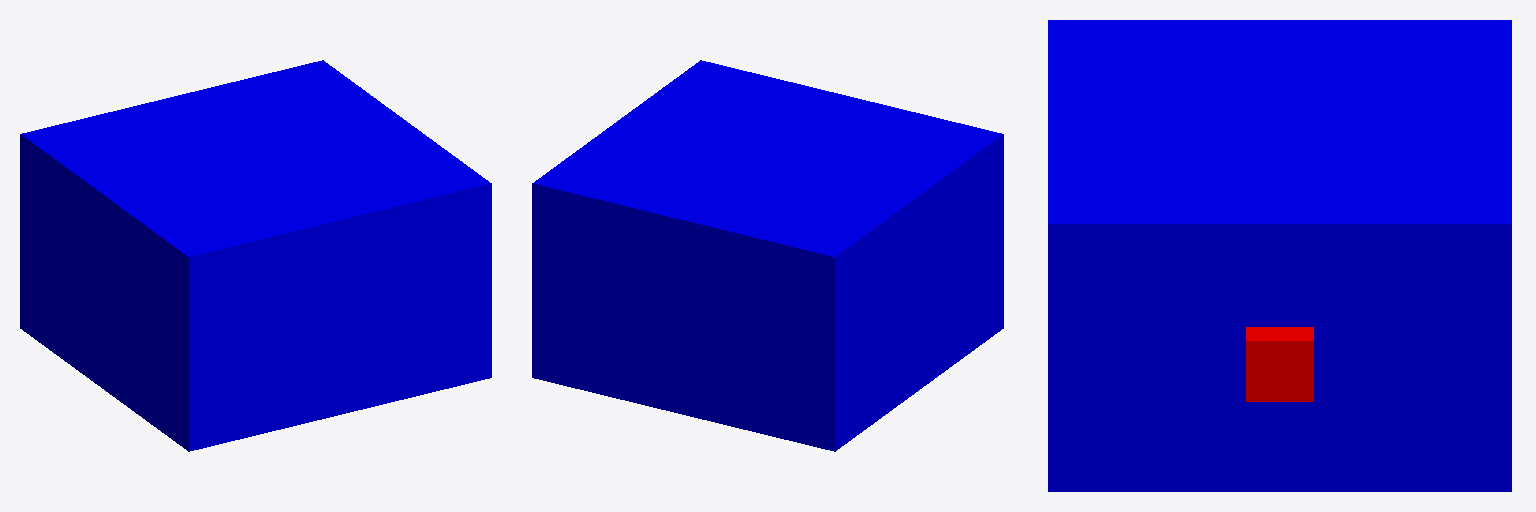
The robot description file, URDF, robot "high_level_robosub":
<?xml version="1.0"?>
<robot name="high_level_robosub">

	<!-- Block -->
	<link name="base_link">
		<inertial>
			<mass value="200.0"/>
			<origin xyz="0 0 0"/>
			<inertia
				ixx="5.5808" ixy="0.0" ixz="0.0"
				iyy="5.8858" iyz="0.0"
				izz="8.2400"/>
		</inertial>
		<visual>
			<geometry>
				<box size="0.716 0.690 0.440"/>
			</geometry>
			<material name="blue">
				<color rgba="0 0 1 1"/>
			</material>
		</visual>
		<collision>
			<geometry>
				<box size="0.716 0.690 0.440"/>
			</geometry>
		</collision>
	</link>

	<!-- Camera -->
	<link name="camera_link">
		<inertial>
			<mass value="1.0" rpy="0 0 0"/>
			<origin xyz="0.5 0 0"/>
			<inertia
				ixx="0.01" ixy="0.0" ixz="0.0"
				iyy="0.01" iyz="0.0"
				izz="0.01"/>
		</inertial>
		<visual>
			<geometry>
				<box size="0.1 0.1 0.1"/>
			</geometry>
			<material name="red">
				<color rgba="1 0 0 1"/>
			</material>
		</visual>
	</link>
	<joint name="camera_joint" type="fixed">
		<origin xyz="0.358 0 0" rpy="3.1416 3.1416 3.1416"/>
		<parent link="base_link"/>
		<child link="camera_link"/>
    </joint>


	<gazebo reference="camera_link">
		<sensor name="underwater_camera" type="rgbd_camera">
			<update_rate>10</update_rate>
			<visualize>true</visualize>
			<always_on>1</always_on>
			<topic>/robosub/camera</topic>
			<camera>
				<horizontal_fov>1.05</horizontal_fov>
				<image>
				<width>320</width>
				<height>240</height>
				</image>
				<clip>
				<near>0.1</near>
				<far>10.0</far>
				</clip>
			</camera>
			<plugin
				filename="libUnderwaterCamera.so"
				name="dave_gz_sensor_plugins::UnderwaterCamera">
				<attenuationR>0.4</attenuationR>
				<attenuationG>0.25</attenuationG>
				<attenuationB>0.1</attenuationB>
				<!-- Murky Coastal Waters -->
				<backgroundR>120</backgroundR>
				<backgroundG>120</backgroundG>
				<backgroundB>50</backgroundB>
			</plugin>
		</sensor>
	</gazebo>

	<gazebo>
		<plugin name="gz::sim::systems::OdometryPublisher" filename="libgz-sim8-odometry-publisher-system.so">
			<tf_topic>/model/high_level_robosub/pose</tf_topic>
		</plugin>
	</gazebo>
</robot>

--- Render facts (derived) ---
Views: 3 orthographic renders of the robot side by side, from view 1: azimuth 30°, elevation 25°; view 2: azimuth 150°, elevation 25°; view 3: azimuth 270°, elevation 25°.
Robot: high_level_robosub — 2 links, 1 joints (1 fixed); root link base_link; default pose: all joints at 0.
Links seen in each view (by area): view 1: base_link; view 2: base_link; view 3: base_link, camera_link.
Link boxes in pixels (left/top/right/bottom): base_link: left=20, top=60, right=491, bottom=451; base_link: left=532, top=60, right=1003, bottom=451; base_link: left=1048, top=20, right=1511, bottom=491; camera_link: left=1246, top=327, right=1313, bottom=401.
Size in the robot's own frame: 0.766 by 0.69 by 0.44 metres.
Geometry: primitives only (box / cylinder / sphere), no mesh files.
